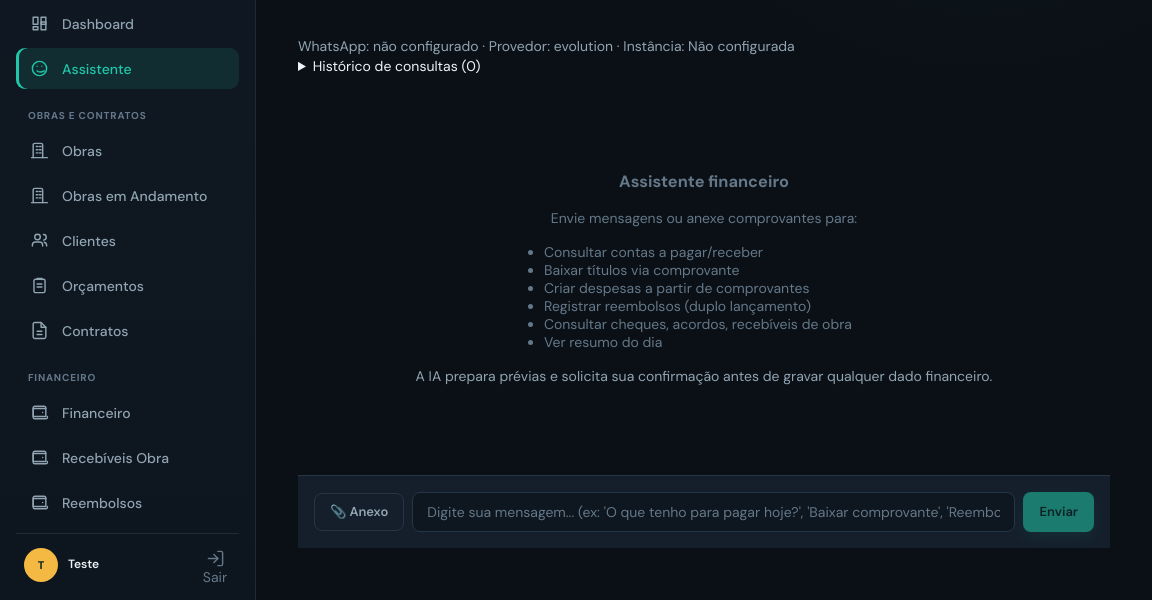
it: Navegação e Assistente integrado › mantém o acesso antigo ao chat financeiro e envia o identificador correto para confirmar uma prévia
The width and height of the screenshot is (1152, 600).
(page scrolled)
Replace the text in the field with placeholder "Digite sua mensagem" with "Criar despesa de 100" at (714, 512), box [412,492,1016,532]
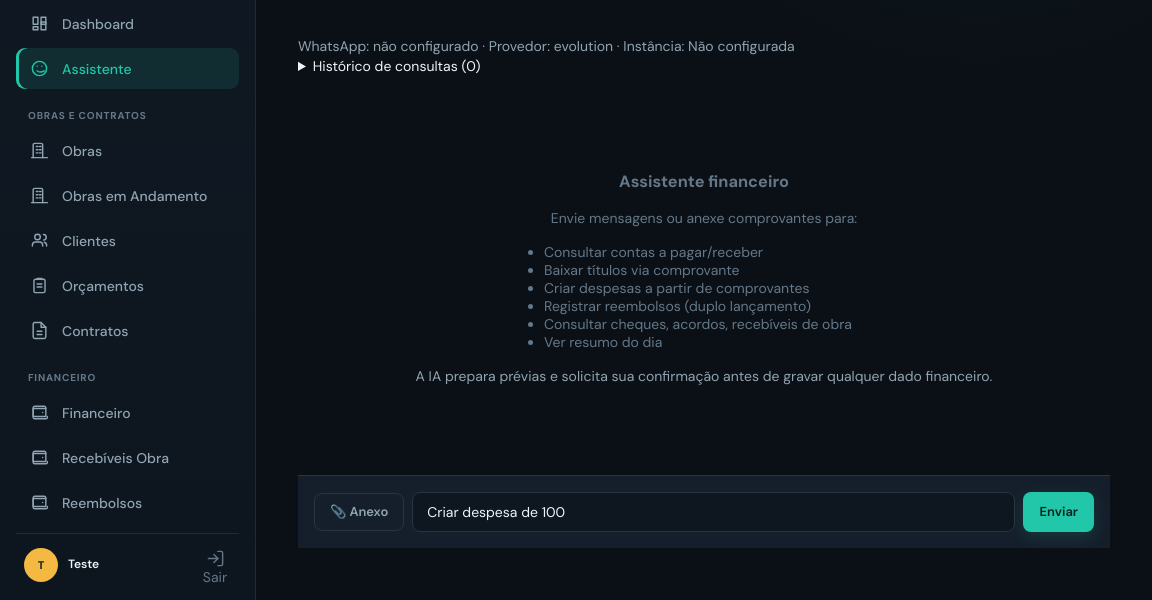
Click the button "Enviar" at (1059, 512), box [1024,492,1094,532]
(page scrolled)
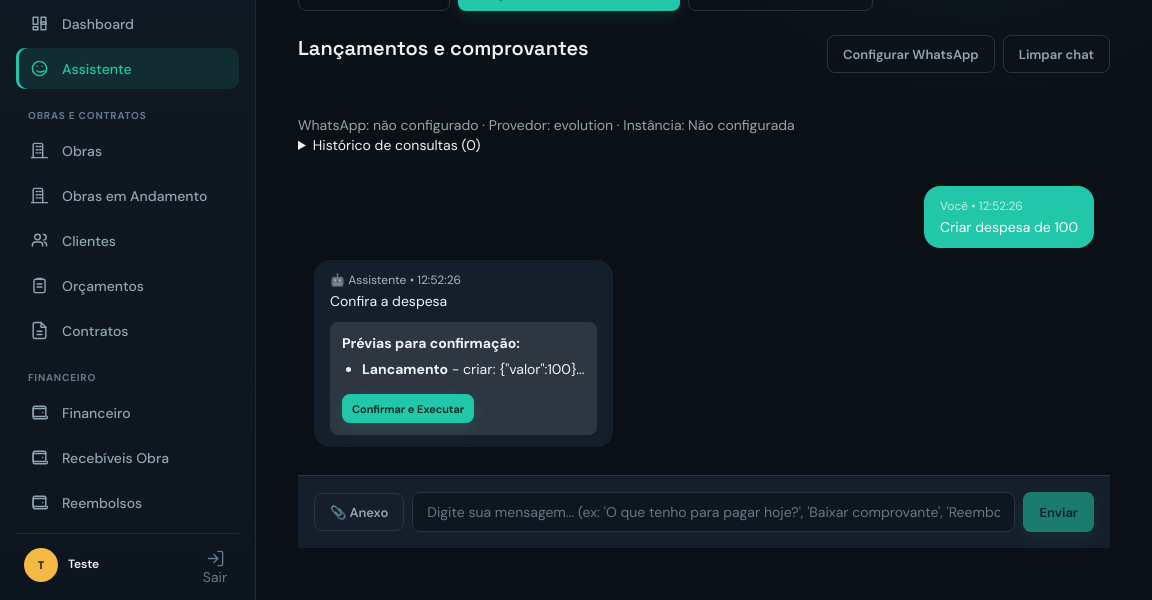
Click the button "Confirmar e Executar" at (408, 408), box [342,394,474,423]
(page scrolled)
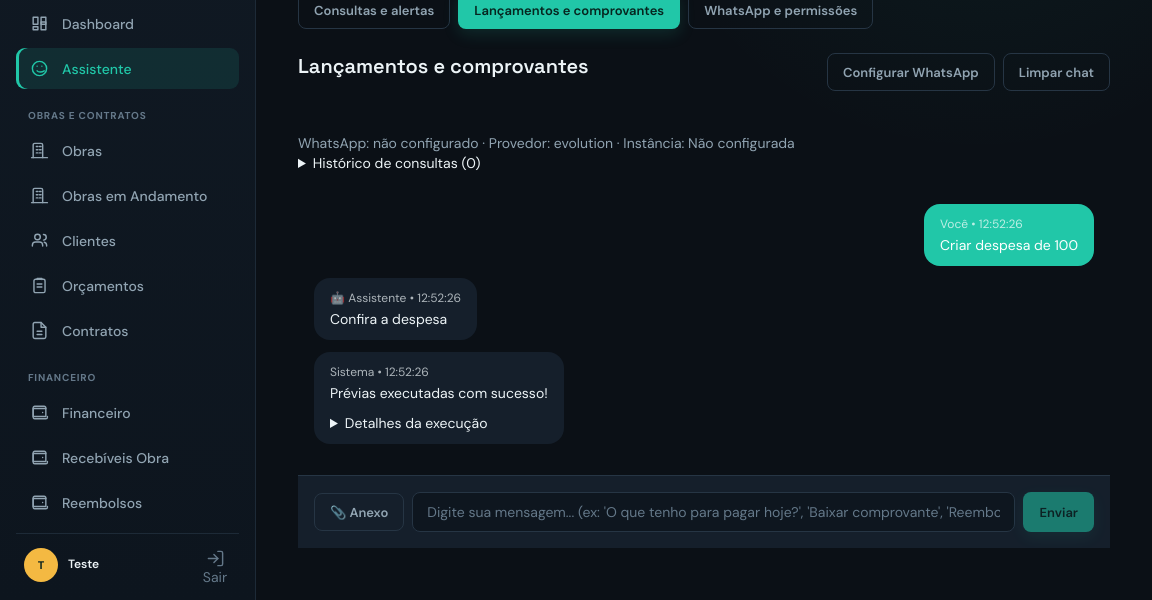
Check: the text "Prévias executadas com sucesso!" is shown, box [330,384,548,402]
Check: the button "Confirmar e Executar" is gone
